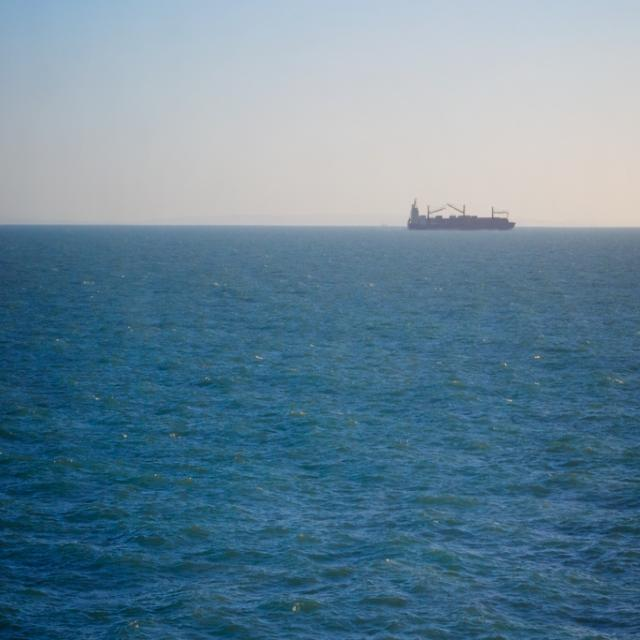Boat: (407, 198, 516, 233)
